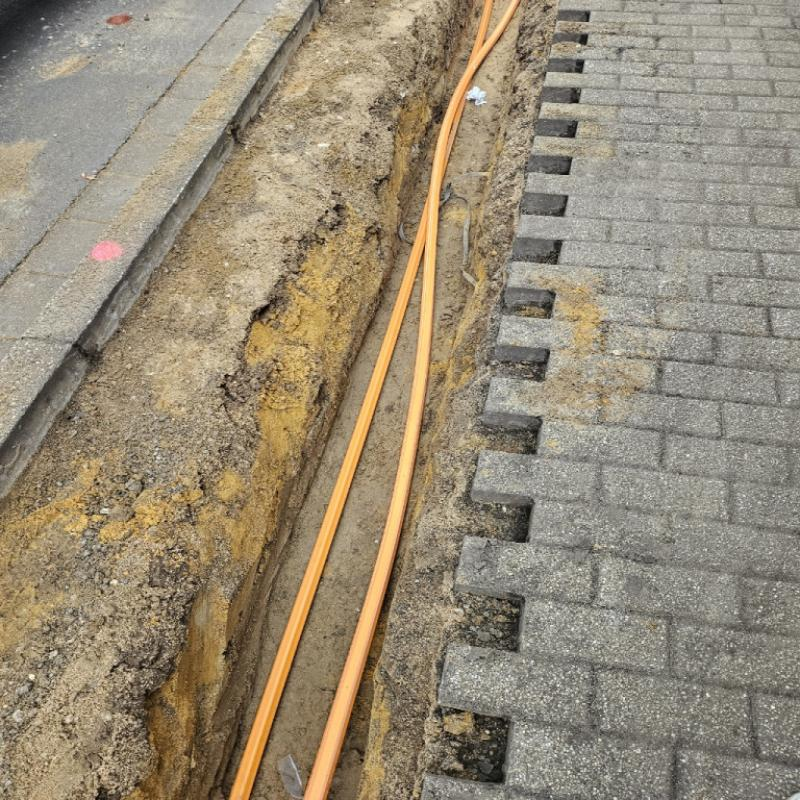Orang-Speednetrohrchen: (228, 71, 472, 800)
